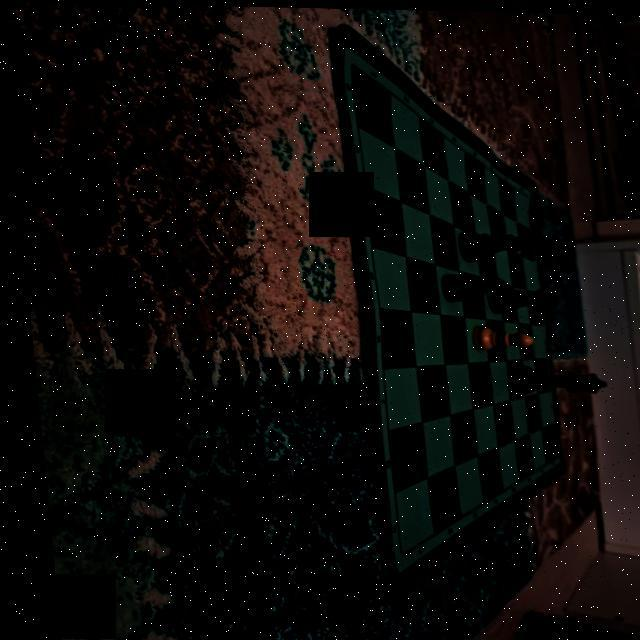chess-table-corners: (340, 52, 364, 74), (380, 543, 404, 562), (511, 185, 535, 202), (536, 446, 556, 462)
